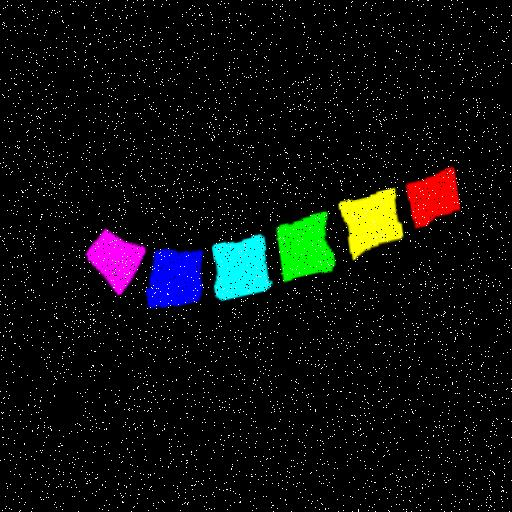L1: (405, 174, 459, 234)
L2: (339, 193, 403, 265)
L3: (276, 216, 334, 286)
L4: (211, 239, 272, 303)
L5: (146, 251, 202, 310)
S1: (86, 231, 145, 296)
